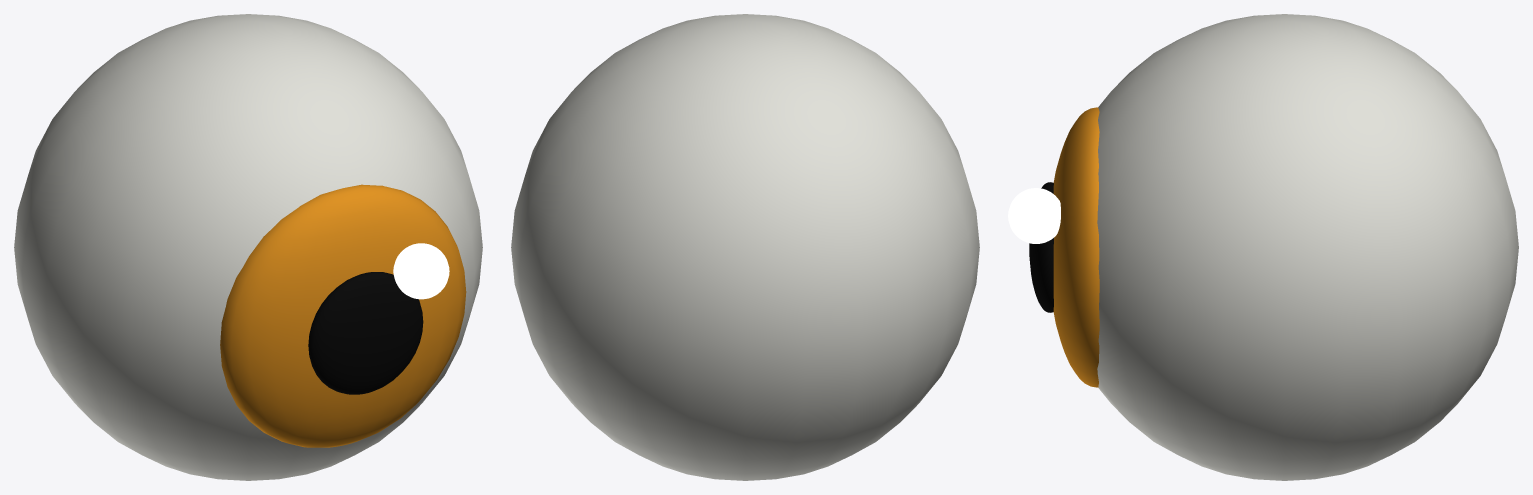
Rendered from prop_eye.glb.
3 renders of one model, left to right at view 1: azimuth 30°, elevation 25°; view 2: azimuth 150°, elevation 25°; view 3: azimuth 270°, elevation 25°, orthographic.
Parts seen in each view (by area): view 1: sclera, iris, pupil, catchlight; view 2: sclera; view 3: sclera, iris, catchlight, pupil.
Boxes of the visible parts, x1=… form: sclera: x1=14, y1=14, x2=482, y2=480; iris: x1=220, y1=184, x2=466, y2=447; pupil: x1=308, y1=272, x2=423, y2=394; catchlight: x1=393, y1=243, x2=449, y2=299; sclera: x1=511, y1=14, x2=979, y2=480; sclera: x1=1097, y1=14, x2=1518, y2=480; iris: x1=1053, y1=107, x2=1099, y2=387; catchlight: x1=1008, y1=188, x2=1060, y2=243; pupil: x1=1029, y1=182, x2=1053, y2=312.
Size of the model in its own units: 1 by 1 by 1.09.
